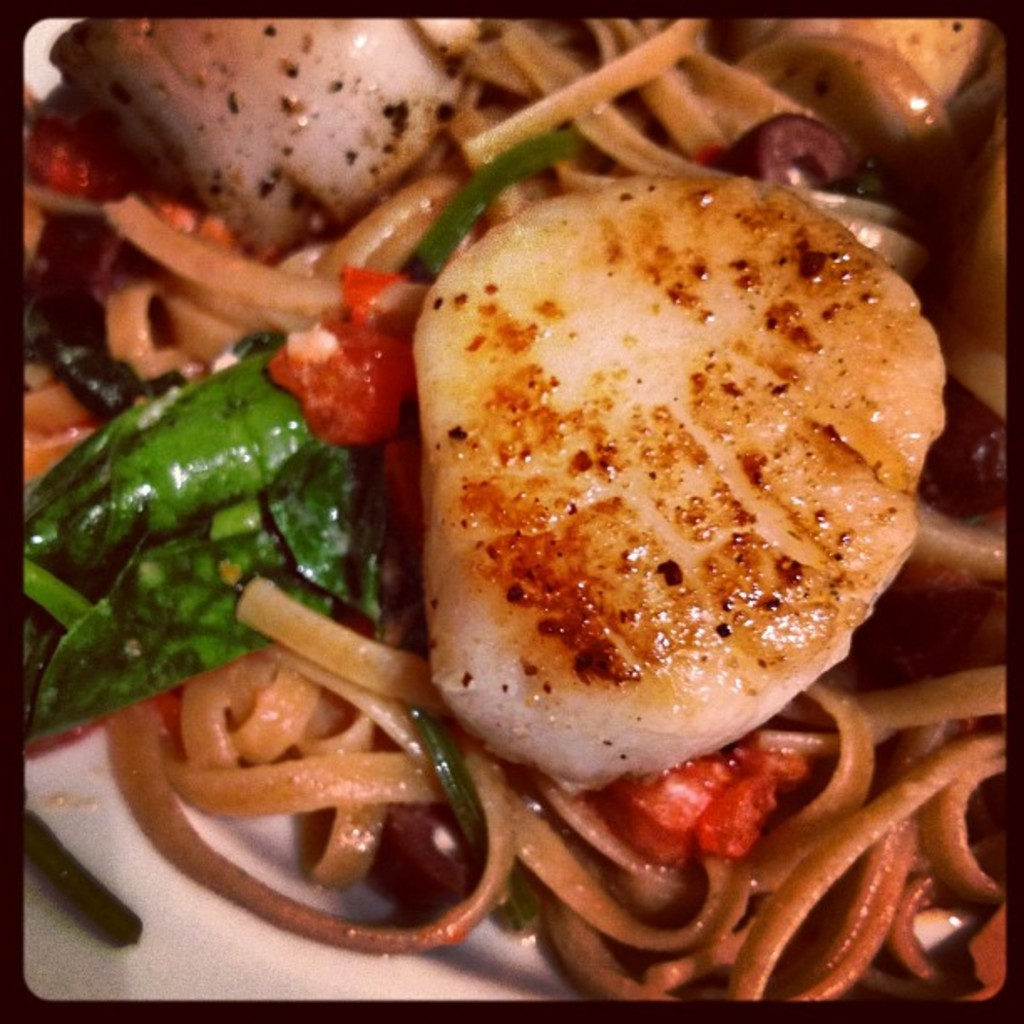pasta: (20, 7, 1019, 1004)
